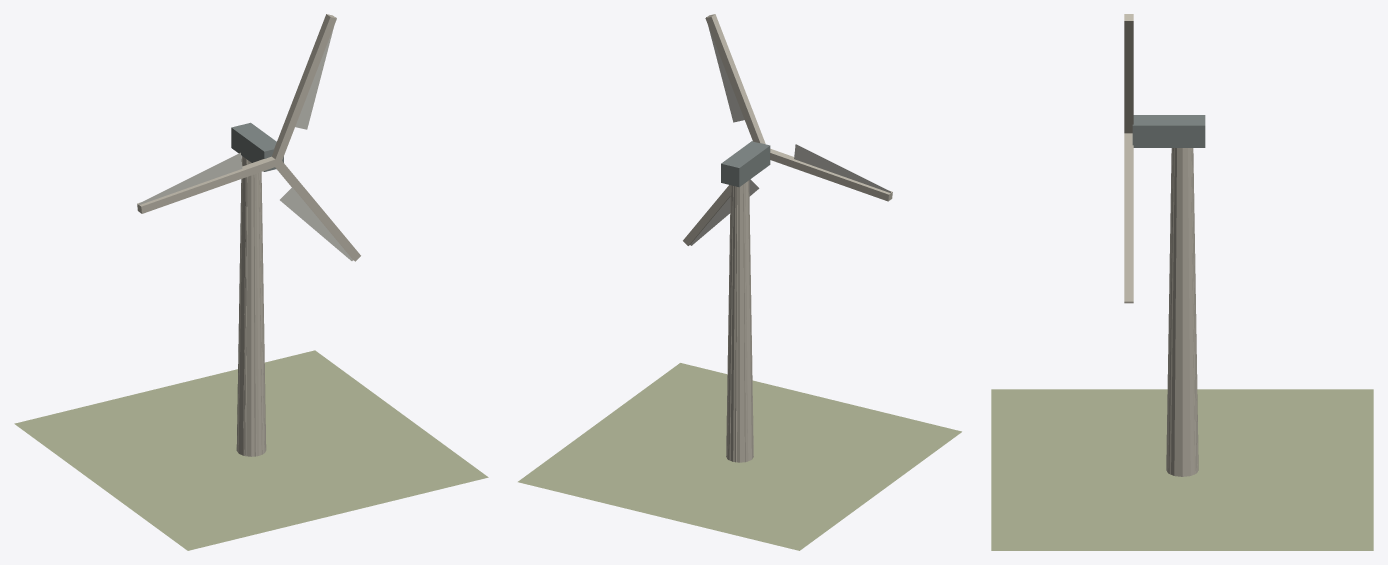
3 renders of one model, left to right at view 1: azimuth 30°, elevation 25°; view 2: azimuth 150°, elevation 25°; view 3: azimuth 270°, elevation 25°, orthographic. The views are drawn at different scales.
Parts seen in each view (by area): view 1: Near, Mid, Far; view 2: Near, Mid, Far; view 3: Near, Mid, Far.
Part boxes in pixels (bbox=[...]): Near: bbox=[14, 14, 488, 550]; Mid: bbox=[236, 156, 265, 456]; Far: bbox=[245, 160, 262, 456]; Near: bbox=[518, 14, 961, 550]; Mid: bbox=[727, 180, 753, 462]; Far: bbox=[729, 184, 745, 462]; Near: bbox=[991, 14, 1373, 550]; Mid: bbox=[1169, 148, 1195, 474]; Far: bbox=[1167, 148, 1197, 472].
Size of the model in its own units: 2 by 2.8 by 2.
